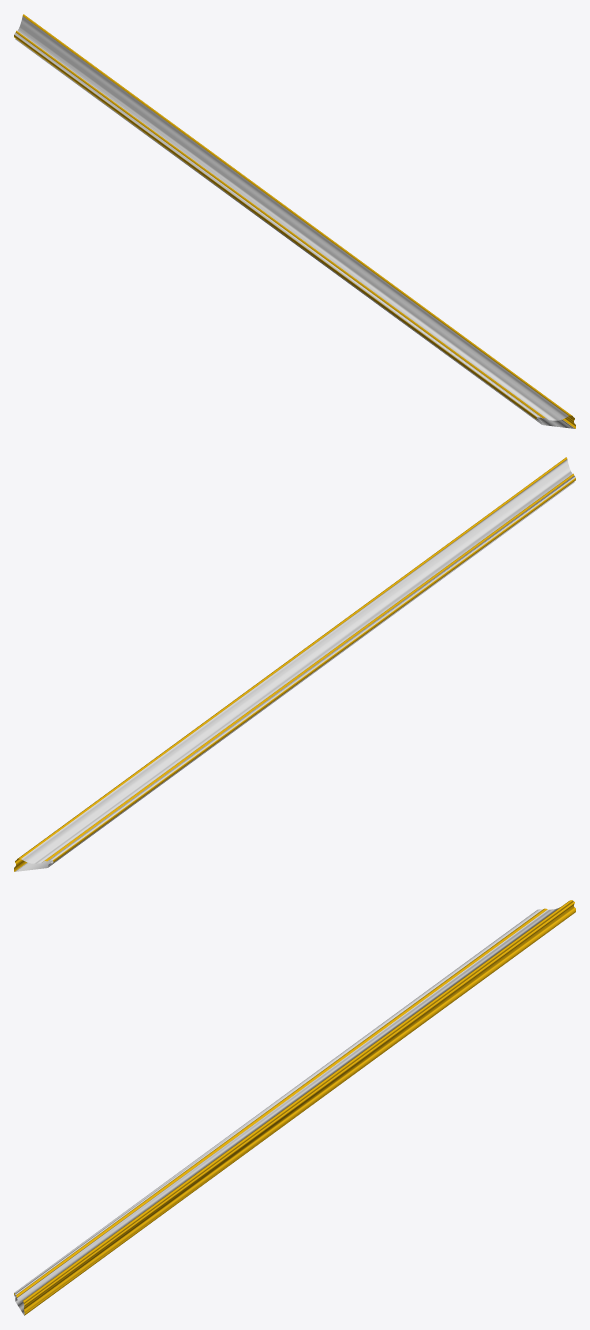
The model's file is finalfinal1.glb.
The picture shows the model from 3 angles, top to bottom: view 1: azimuth 30°, elevation 25°; view 2: azimuth 150°, elevation 25°; view 3: azimuth 330°, elevation 25°; orthographic projection.
Parts seen in each view (by area): view 1: final.002; view 2: final.002; view 3: final.002.
Boxes of the visible parts, <box> form: final.002: <box>14,14,575,428</box>; final.002: <box>14,457,575,871</box>; final.002: <box>14,900,575,1315</box>.
Size of the model in its own units: 5.17 by 2.58 by 198.
